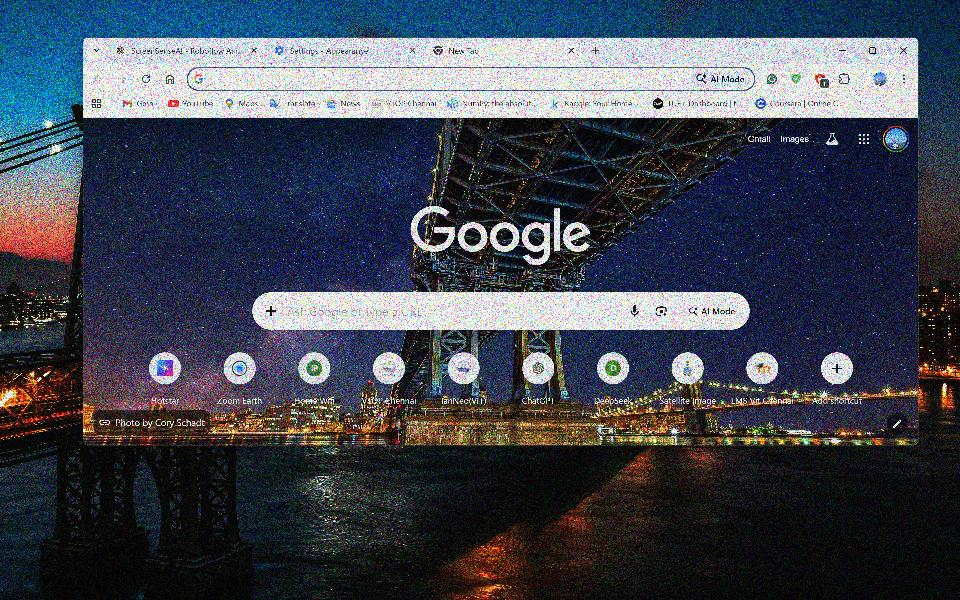close_button: (891, 40, 914, 61)
maximize_button: (862, 39, 885, 63)
minimize_button: (832, 39, 853, 61)
